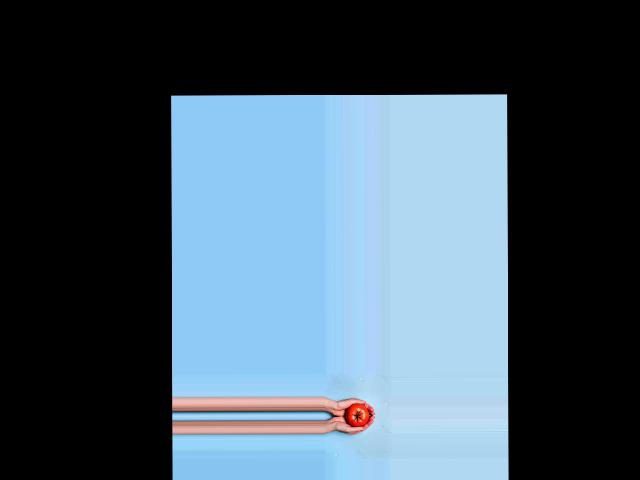tomato: (345, 404, 369, 427)
